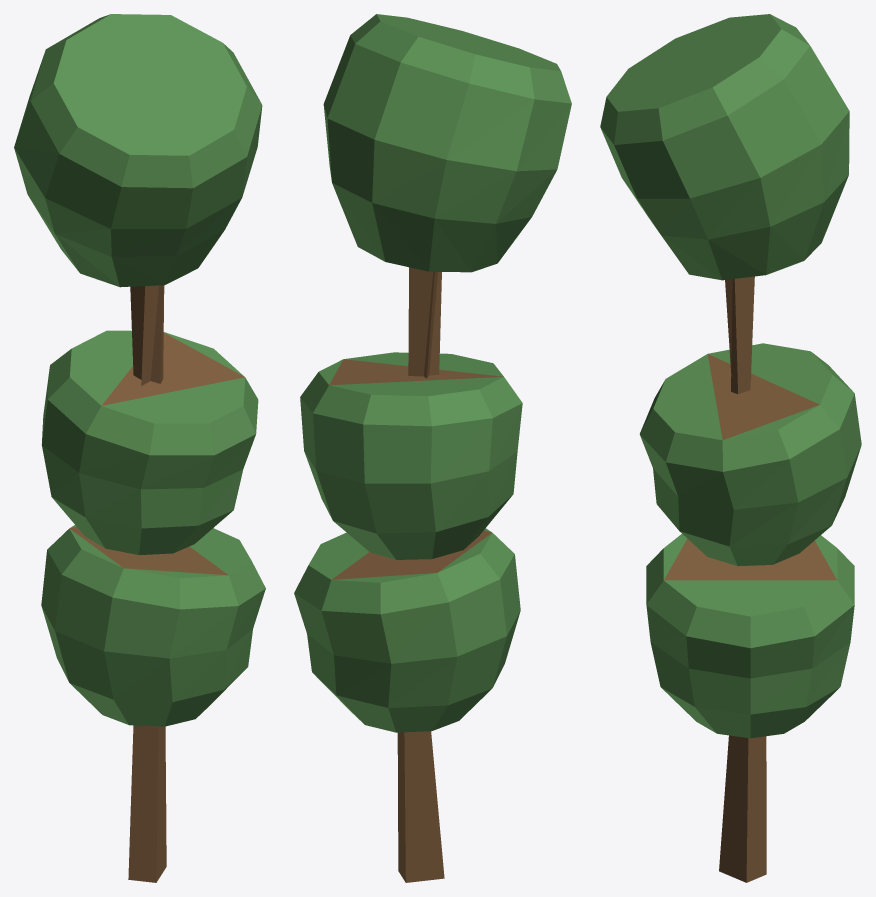
File: tree3d-017.glb
3 renders of one model, left to right at view 1: azimuth 30°, elevation 25°; view 2: azimuth 150°, elevation 25°; view 3: azimuth 270°, elevation 25°, orthographic. The views are drawn at different scales.
Visible parts, largest first — view 1: tree3d-017; view 2: tree3d-017; view 3: tree3d-017.
Boxes of the visible parts, x1,y1,x2,y2 form: tree3d-017: (14, 14, 265, 882); tree3d-017: (294, 14, 571, 882); tree3d-017: (600, 14, 861, 882).
Size of the model in its own units: 0.2791 by 1 by 0.2836.
